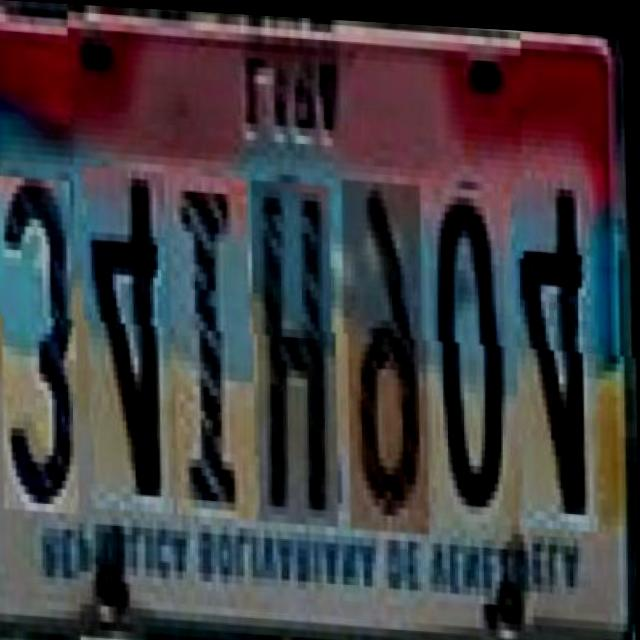3: (0, 167, 83, 504)
4: (87, 166, 178, 511), (515, 176, 601, 531)
9: (346, 173, 432, 527)
h: (256, 176, 342, 521)
i: (173, 171, 259, 516)
o: (433, 179, 516, 524)
